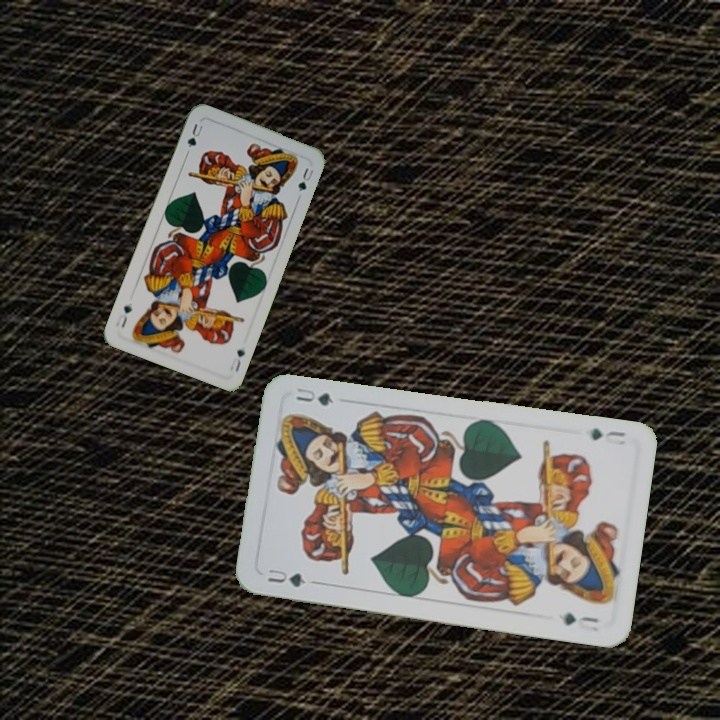GU: (264, 565, 318, 590), (586, 424, 628, 443), (183, 120, 206, 150), (227, 345, 248, 374)
